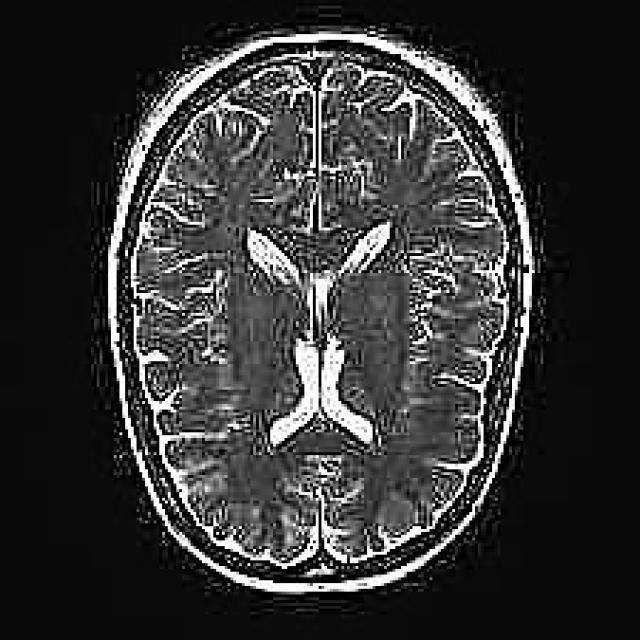notumor: (105, 34, 535, 597)
